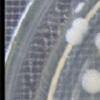white: (80, 69, 100, 94), (71, 17, 89, 37), (64, 28, 83, 46), (95, 31, 100, 49)
